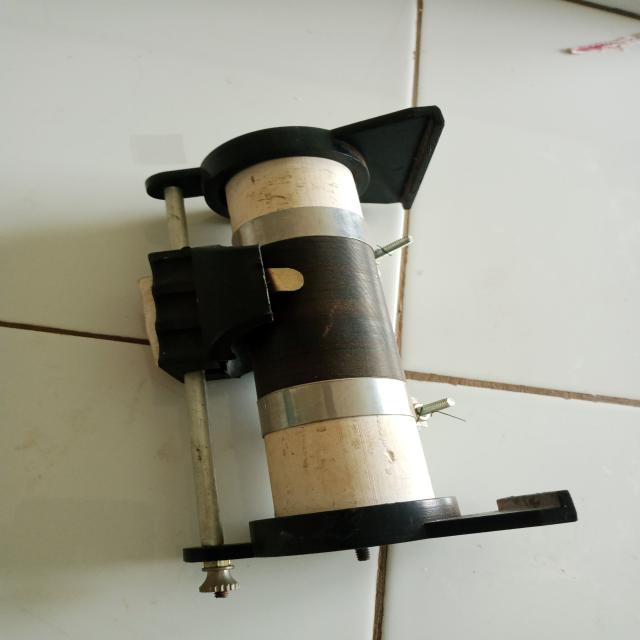Rheostat: (115, 95, 590, 597)
